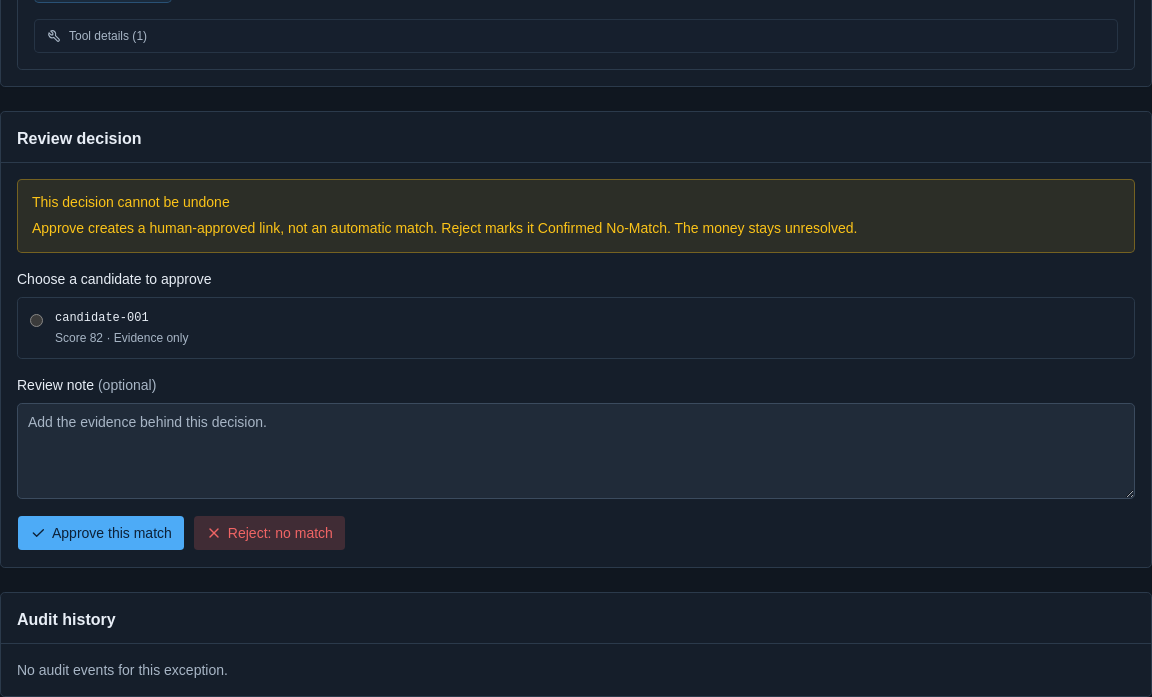
Test: exception detail route › requires terminal confirmation and surfaces a concurrent review conflict
The image size is (1152, 697).
(page scrolled)
Click the button "Approve this match". click: {"x": 101, "y": 533}
box: [17,515,185,551]
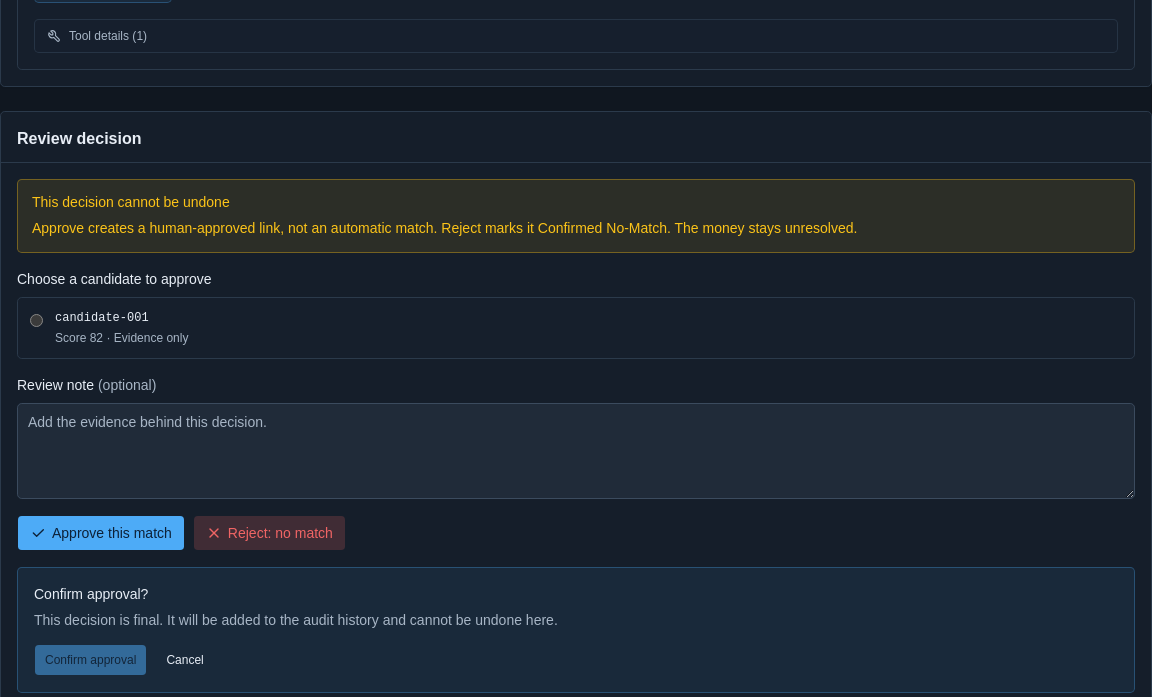
Expected: the element named "Confirm review decision" shows "cannot be undone", [34,612,558,628]
Click the radio button. click: {"x": 36, "y": 320}
box: [30,314,43,327]
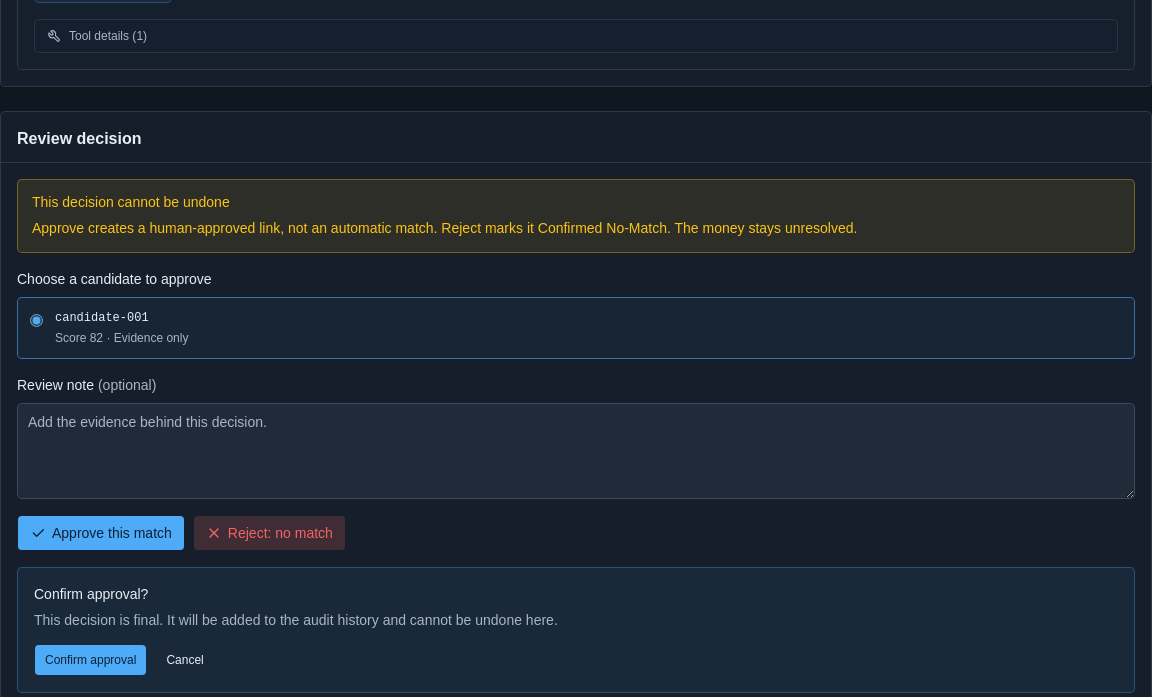
Click the button "Confirm approval". click: {"x": 91, "y": 660}
box: [34,644,147,676]
(page scrolled)
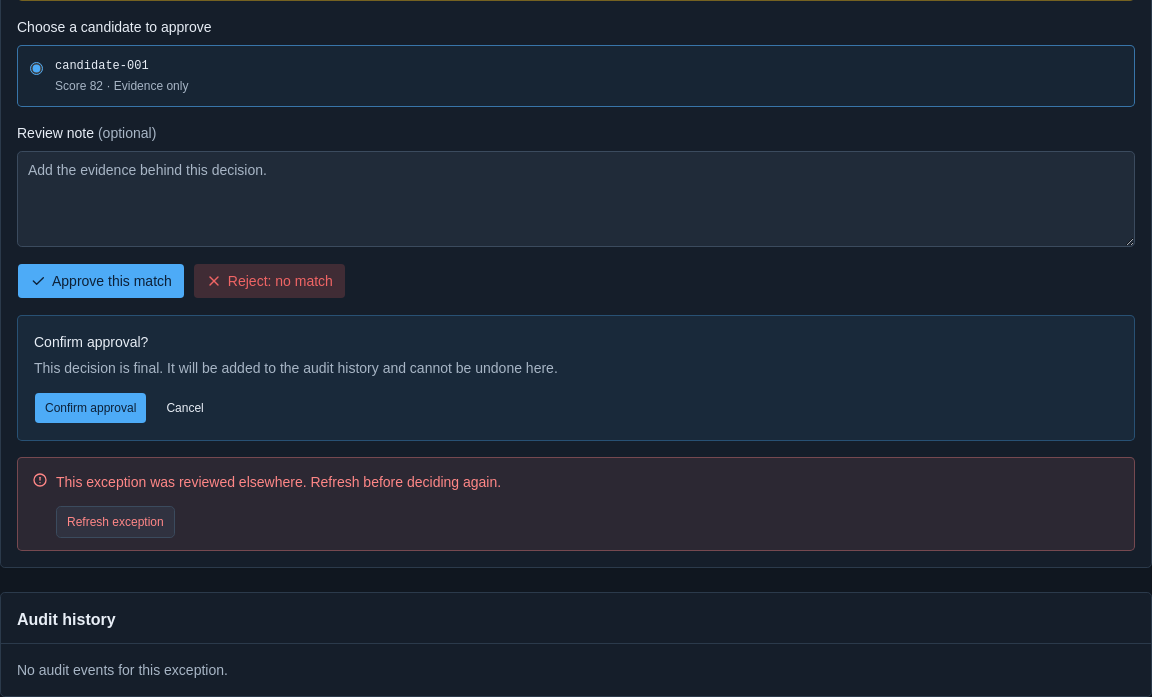
Expected: the 2nd message shows "reviewed elsewhere", [56,474,501,490]
Click the button "Refresh exception". click: {"x": 115, "y": 522}
box: [56,506,175,538]
(page scrolled)
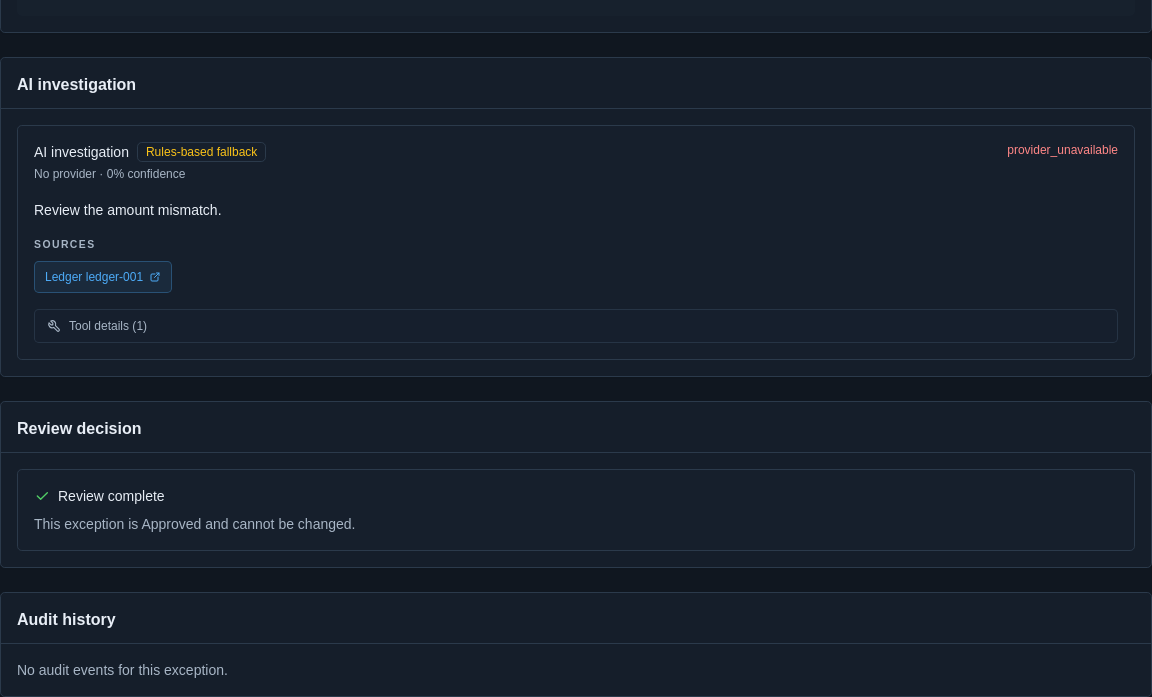
Expected: the text "Review complete" is shown, [34,488,165,504]
